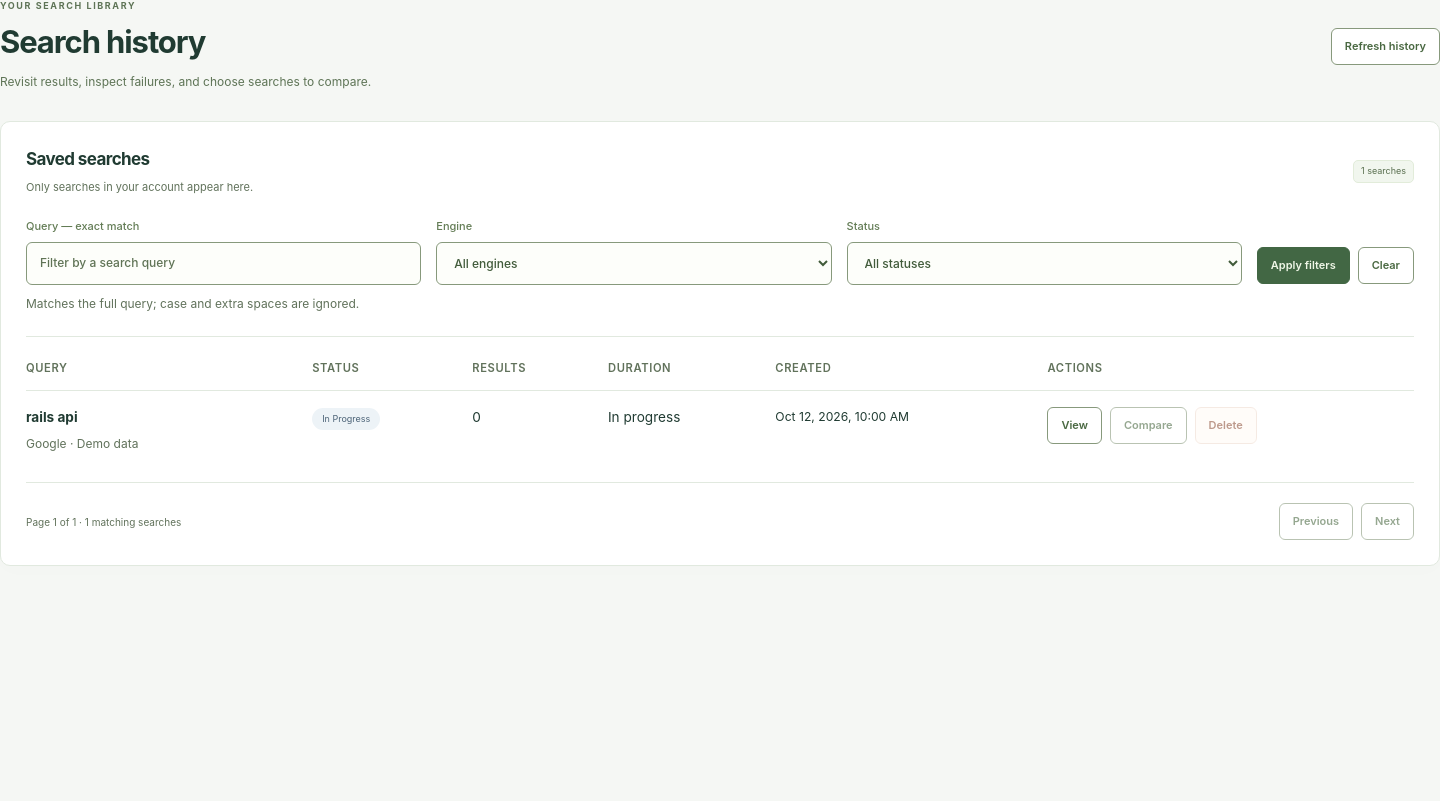
Test: HistoryPage › renders in-flight snapshots with unknown duration and refreshes their saved details safely
The image size is (1440, 801).
Check: the text "rails api" is shown, box top-left (26, 408), bottom-right (78, 424)
Check: the text "In progress" is shown 2 times, box top-left (312, 408), bottom-right (380, 430); top-left (595, 390), bottom-right (763, 469)
Click the button "View". click: (1075, 425)
box: top-left (1048, 406), bottom-right (1102, 444)
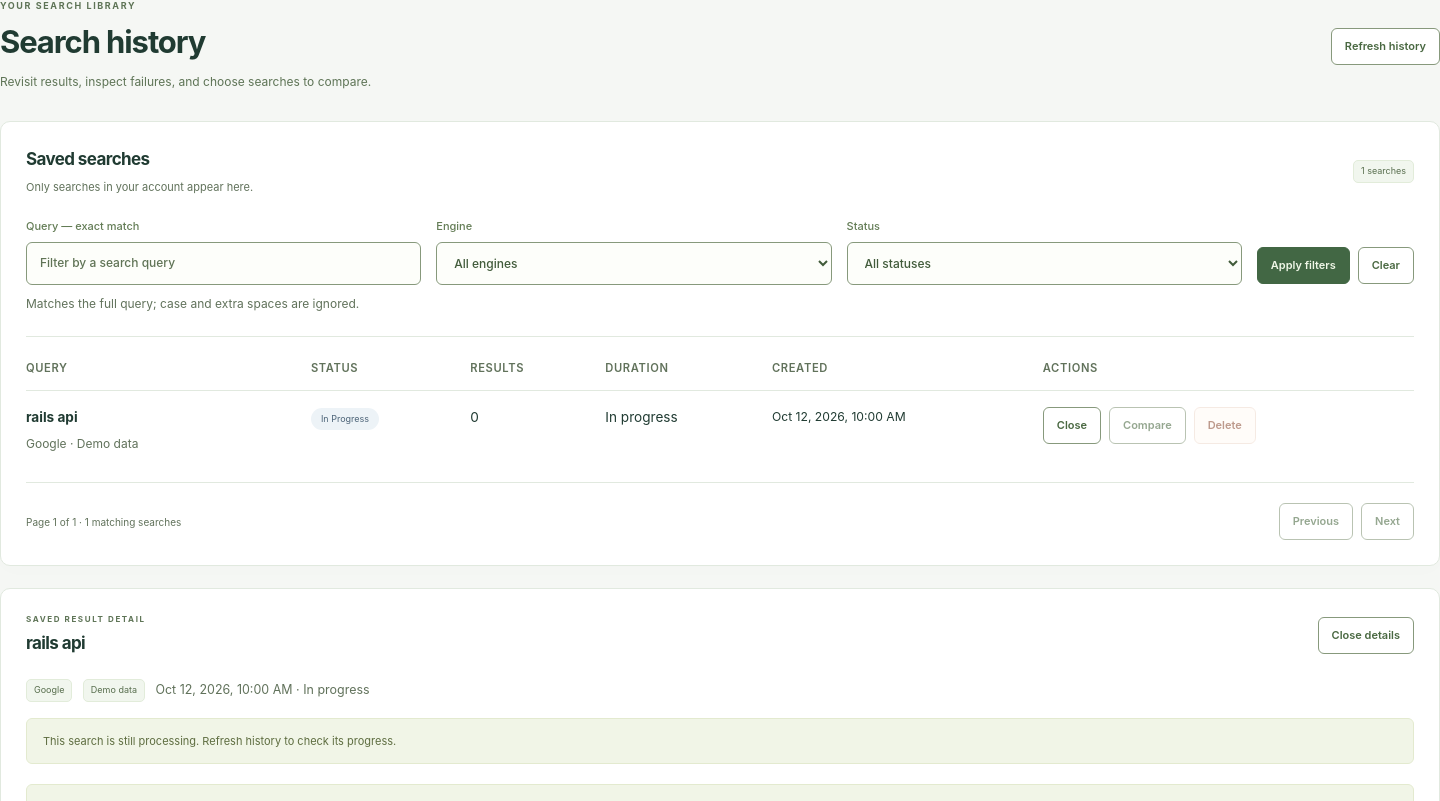
Check: the message shows "still processing", box top-left (43, 734), bottom-right (396, 748)
Click the button "Refresh history". click: (1385, 46)
box: top-left (1331, 28), bottom-right (1439, 65)
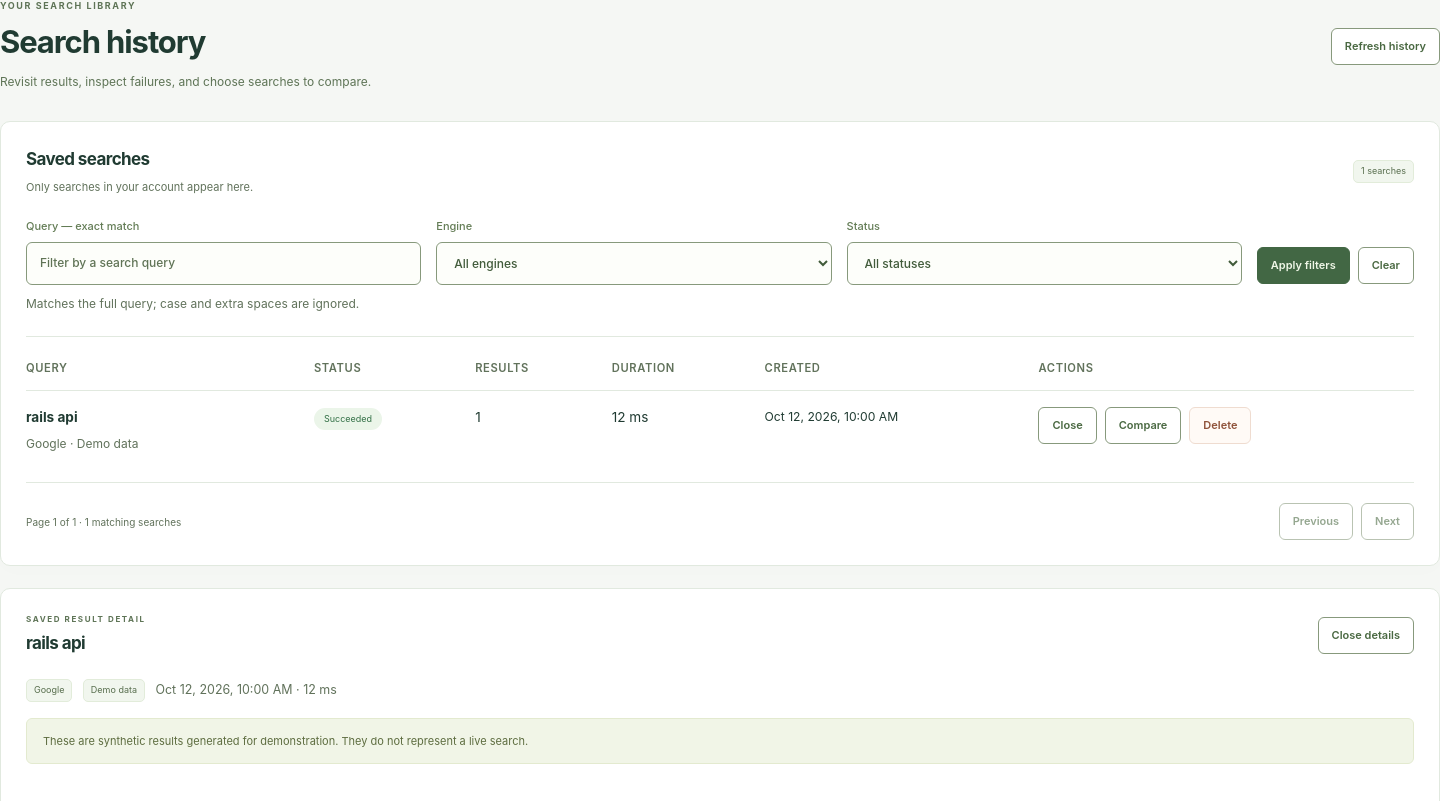
Check: the button with aria-label "Compare rails api" is enabled, box top-left (1105, 406), bottom-right (1181, 444)
